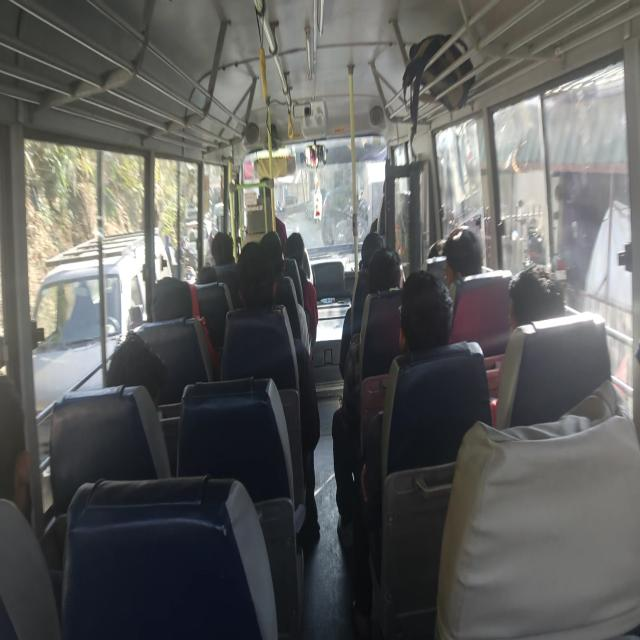person: (353, 268, 492, 636), (221, 240, 320, 544), (332, 245, 404, 548), (491, 263, 566, 426), (339, 245, 404, 380), (259, 230, 312, 360), (105, 331, 167, 408), (0, 375, 32, 522), (507, 264, 566, 332), (284, 231, 318, 348), (442, 226, 482, 293), (210, 230, 235, 266)
